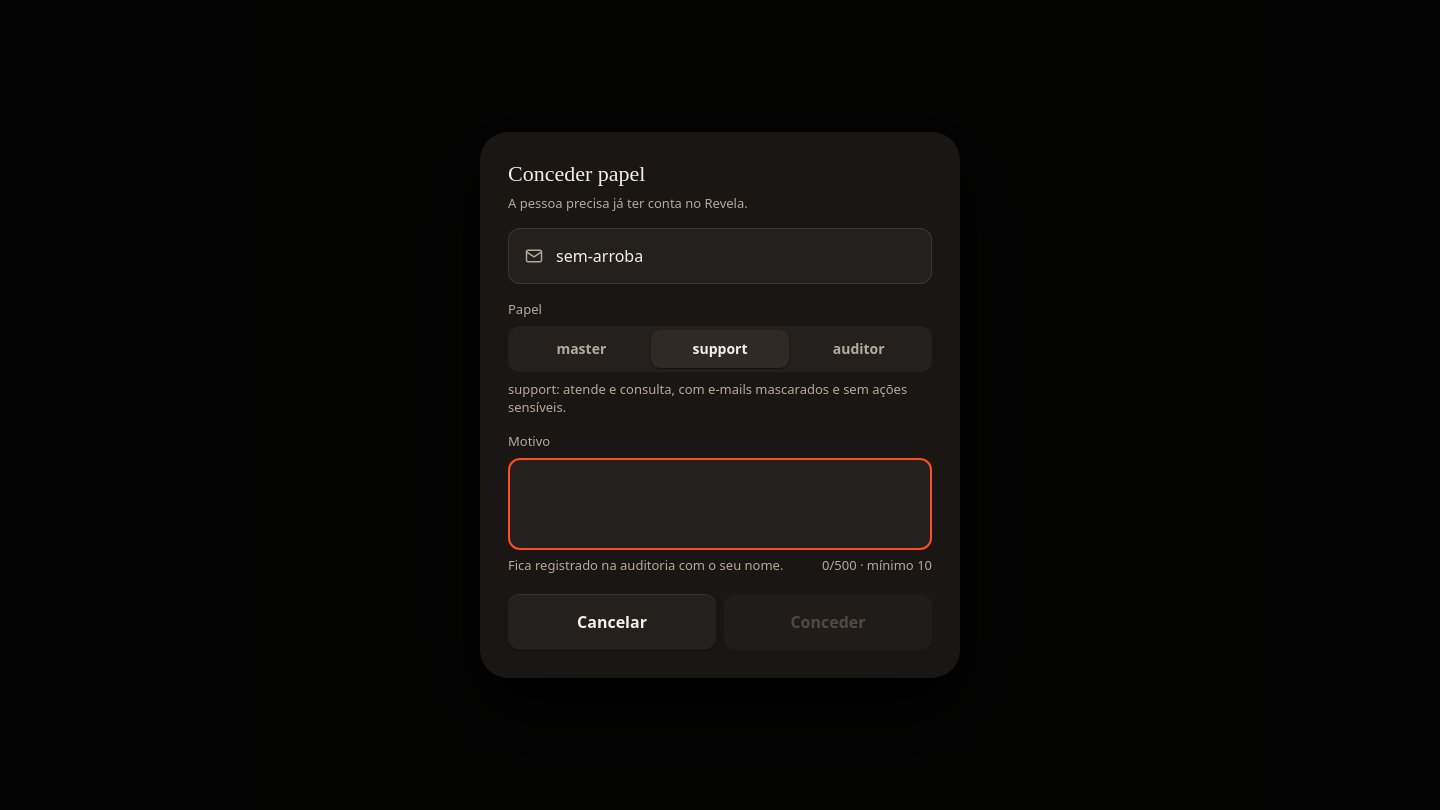
Scenario: Pessoas: folhas da equipe › conceder: e-mail inválido não chega ao servidor
The width and height of the screenshot is (1440, 810).
Type "motivo válido aqui" into the text box named "Motivo" at (720, 511), box [524, 472, 916, 550]
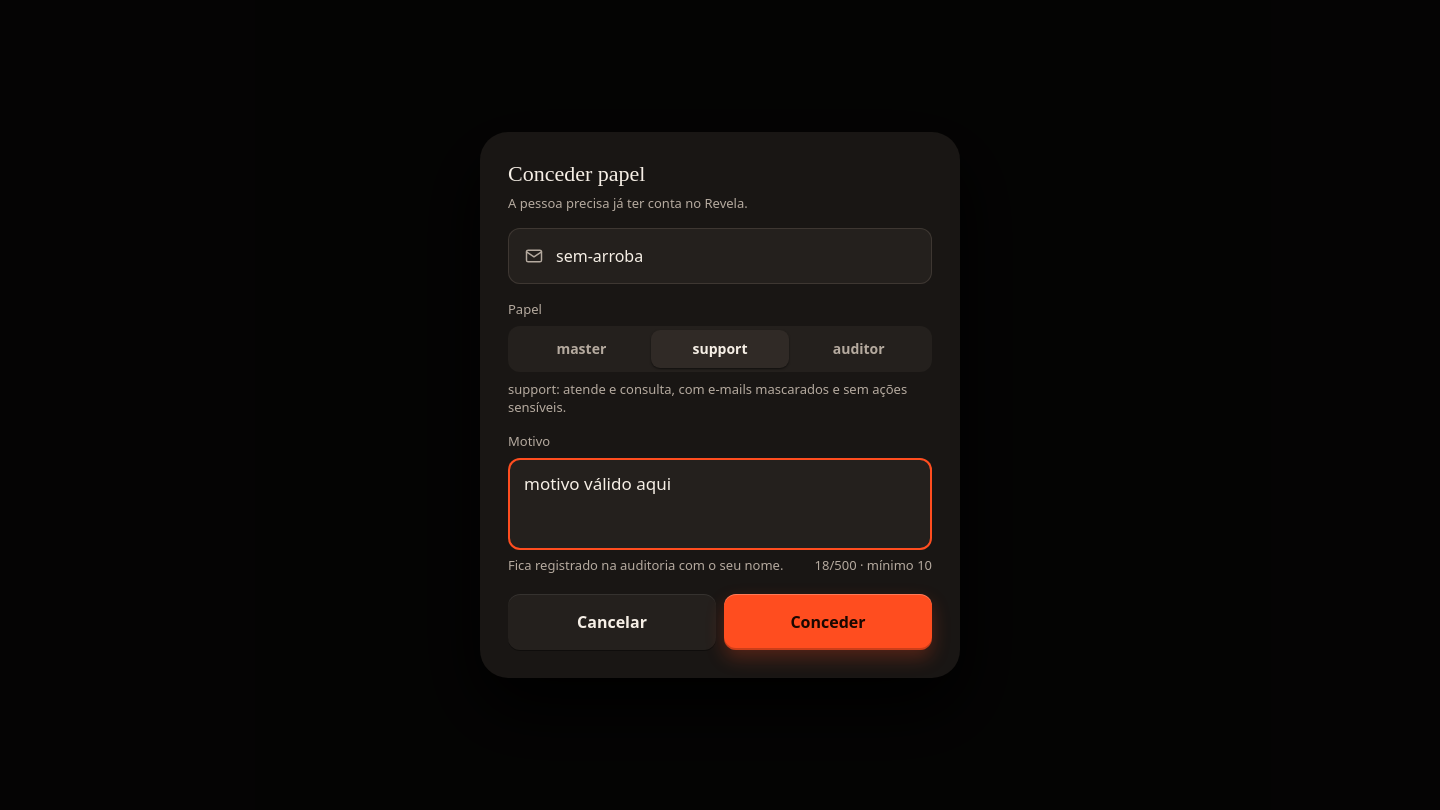
Click the button "Conceder" at (828, 622), box [724, 594, 932, 650]
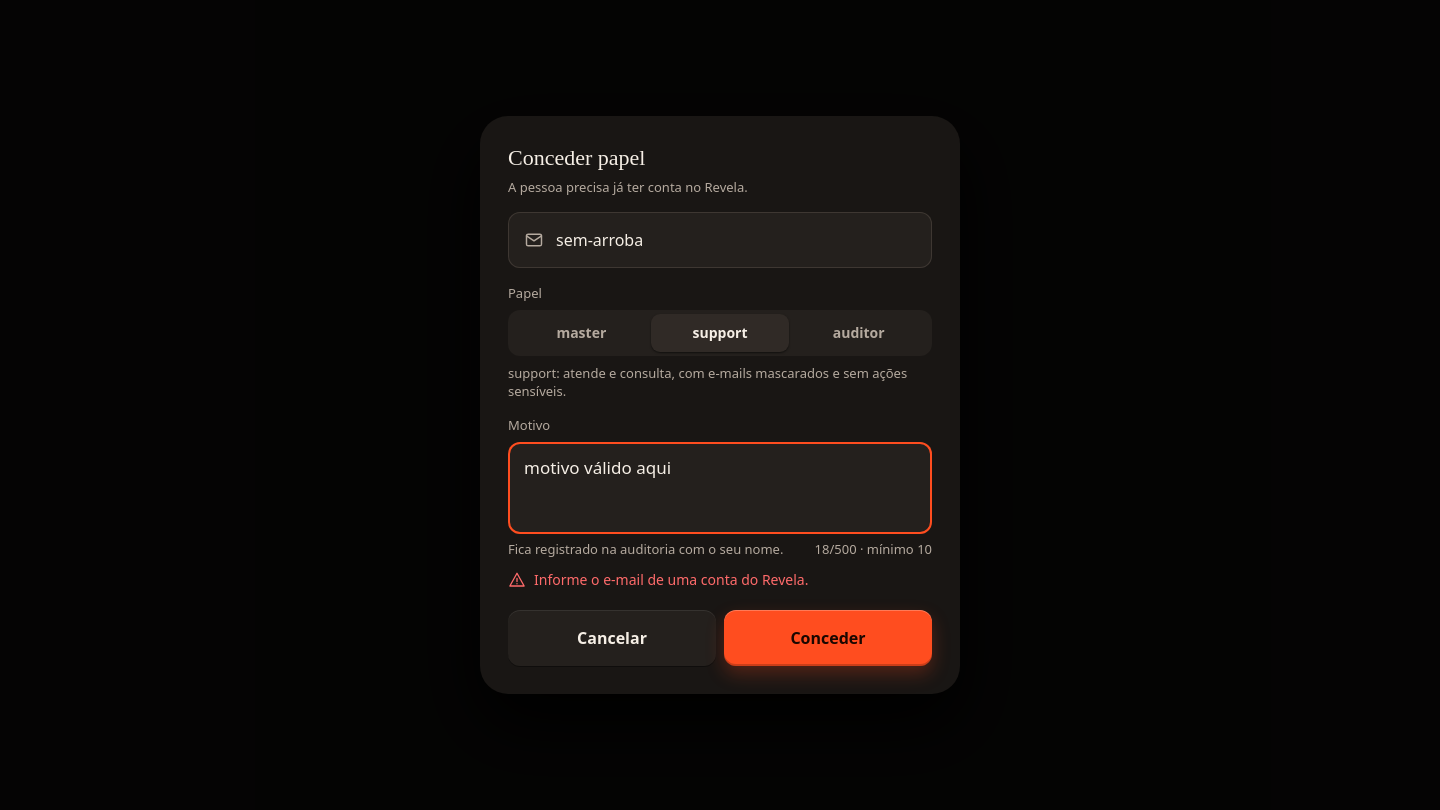
Check: the text "Informe o e-mail de uma conta do Revela." is shown, box [508, 570, 808, 589]
